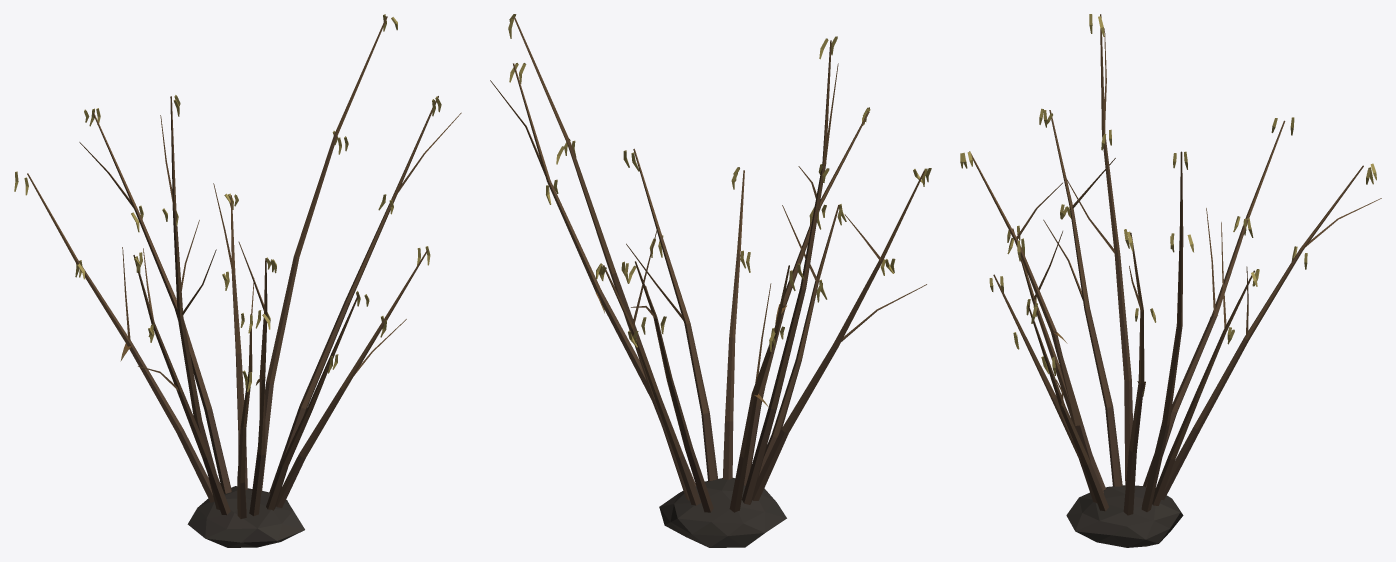
File: hazel_shrub.glb
3 views of the same model, side by side, from view 1: azimuth 30°, elevation 25°; view 2: azimuth 150°, elevation 25°; view 3: azimuth 270°, elevation 25° (orthographic). The views are drawn at different scales.
Visible parts, largest first — view 1: hazel_shrub; view 2: hazel_shrub; view 3: hazel_shrub.
Part boxes in pixels (box(x1,y1,x2,y2)): hazel_shrub: box(14, 14, 461, 547); hazel_shrub: box(490, 14, 931, 547); hazel_shrub: box(960, 14, 1381, 547).
Size of the model in its own units: 2.23 by 2.72 by 2.18.
